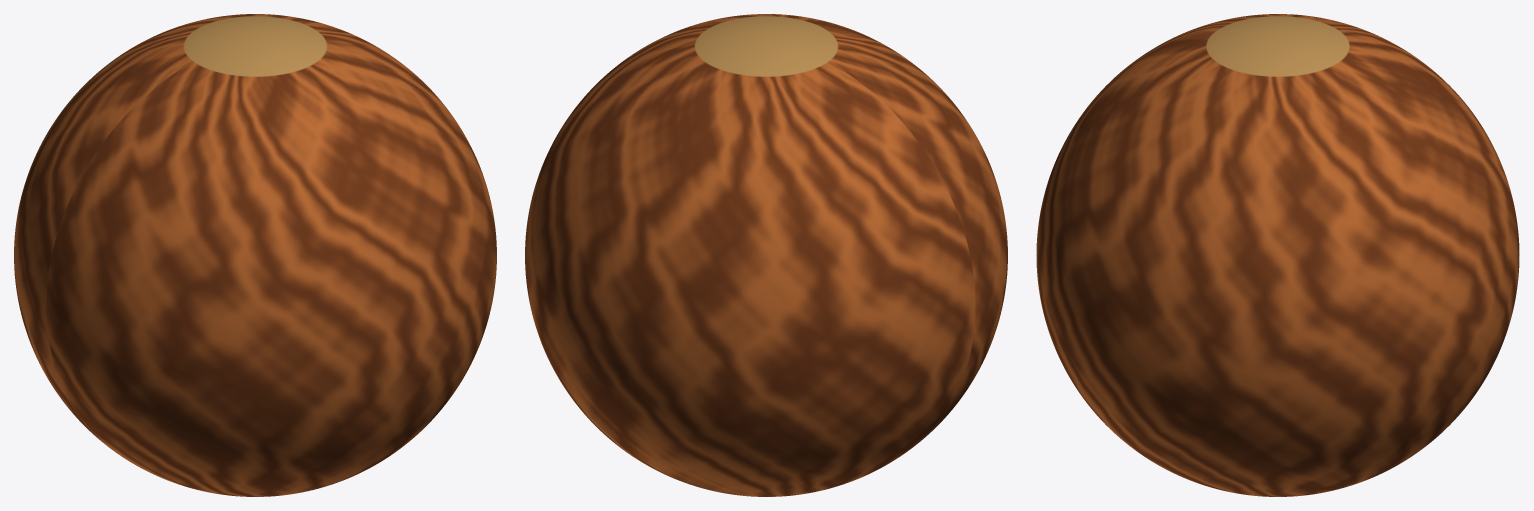
File: planet_dune.glb
3 renders of one model, left to right at view 1: azimuth 30°, elevation 25°; view 2: azimuth 150°, elevation 25°; view 3: azimuth 270°, elevation 25°, orthographic.
Parts seen in each view (by area): view 1: Dune_Surface; view 2: Dune_Surface; view 3: Dune_Surface.
Part boxes in pixels (x1,y1,x2,y2): Dune_Surface: (14, 14, 496, 496); Dune_Surface: (525, 14, 1007, 496); Dune_Surface: (1036, 14, 1519, 496).
Bounding box in the file's own units: 164 × 164 × 164.
1 material, 1 textured.
